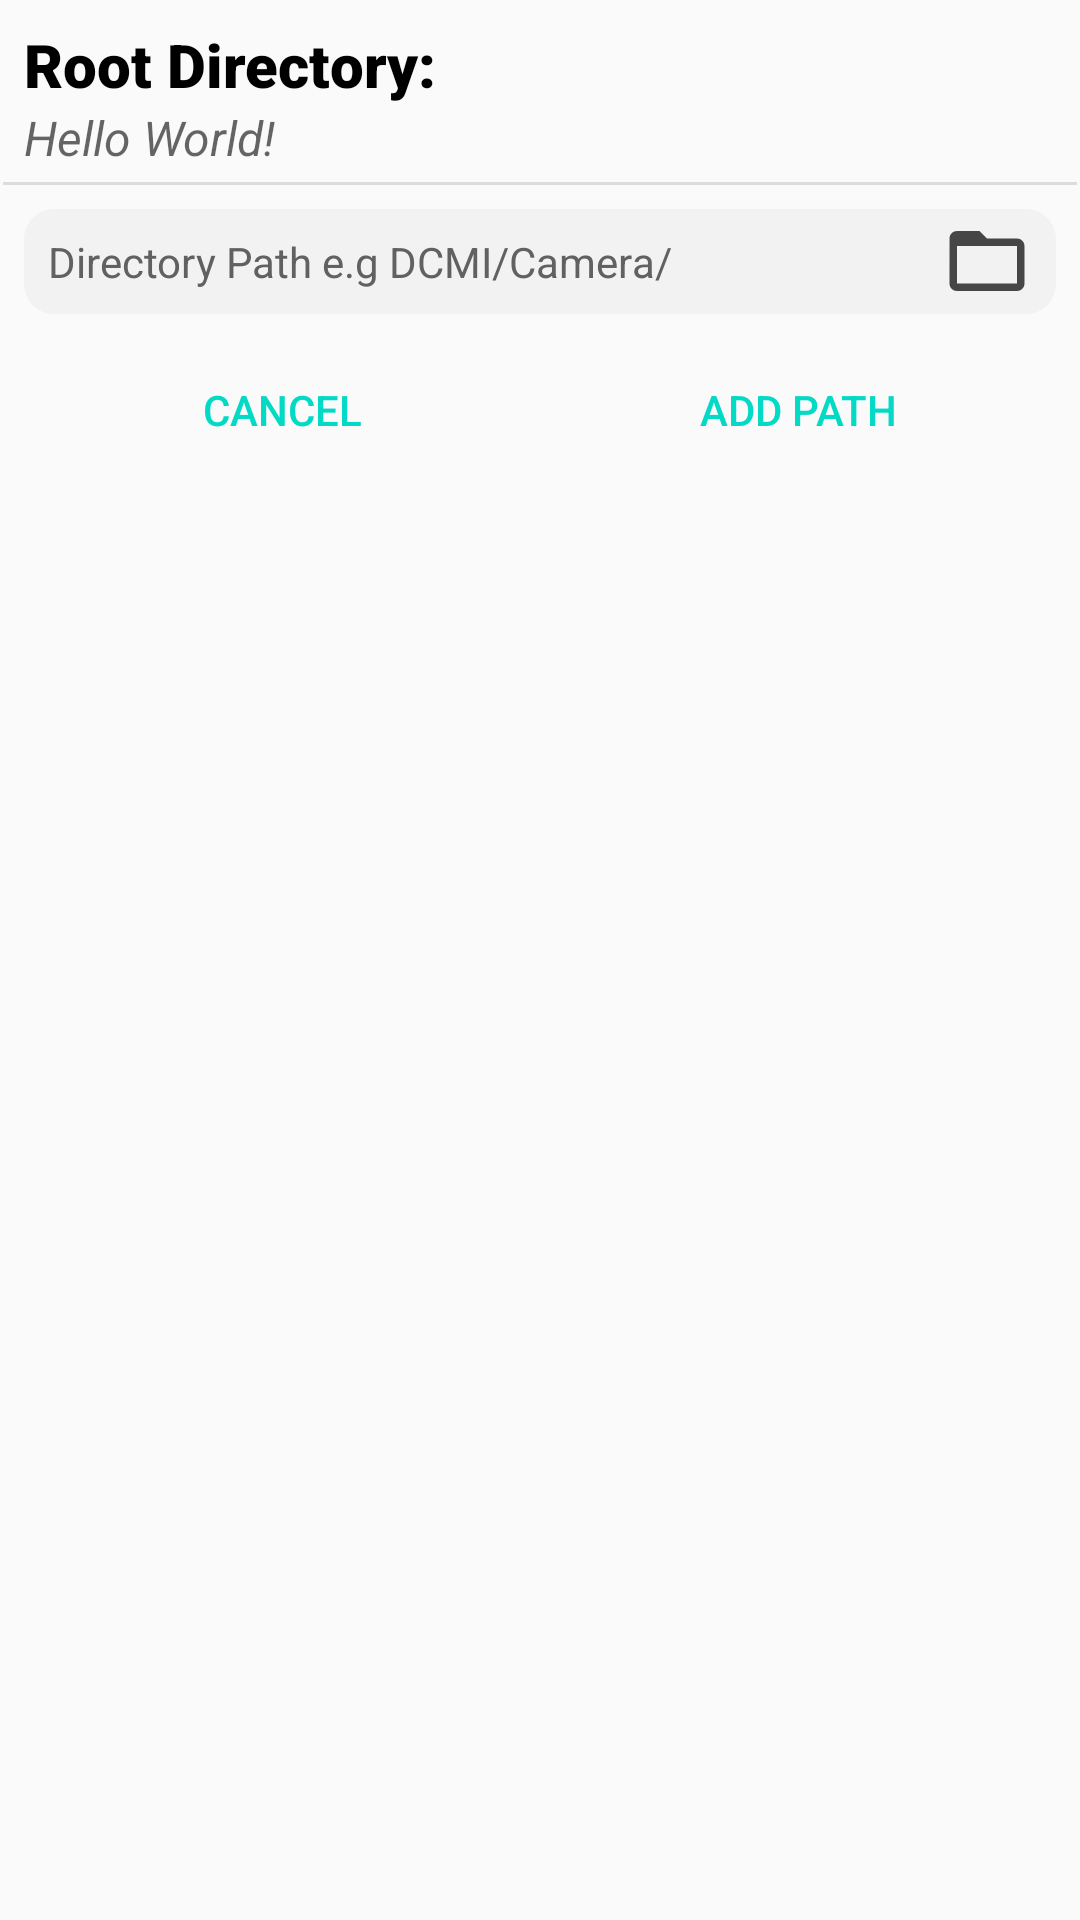

Point at icon controls on the screen. Image size 1080px x 1920px, points as [x,y].
folder open: [987,261]
